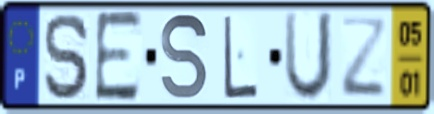E: (92, 8, 144, 105)
L: (221, 12, 260, 102)
S: (158, 10, 210, 104), (42, 11, 93, 103)
U: (281, 9, 337, 105)
Z: (339, 14, 389, 101)
